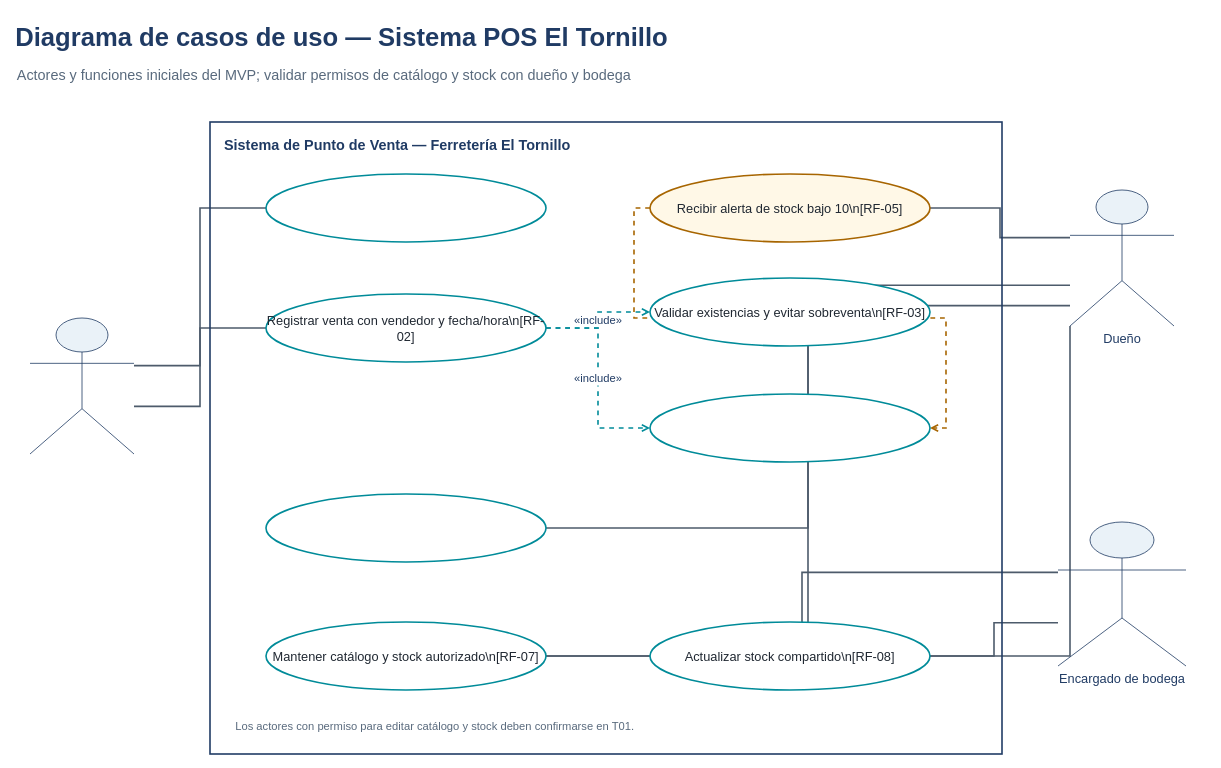
Image size: 1221x768. Some labels were removed from this diagram. The shapes that lost their labels are listed below. From the top down, each one's centre as x and y in pixels, then its label:
At point (405, 207): "Buscar productos y consultar stock\n[RF-01]".
At point (81, 385): "Vendedor".
At point (789, 427): "Descontar inventario al confirmar venta\n[RF-04]".
At point (405, 527): "Consultar historial de ventas\n[RF-06]".
